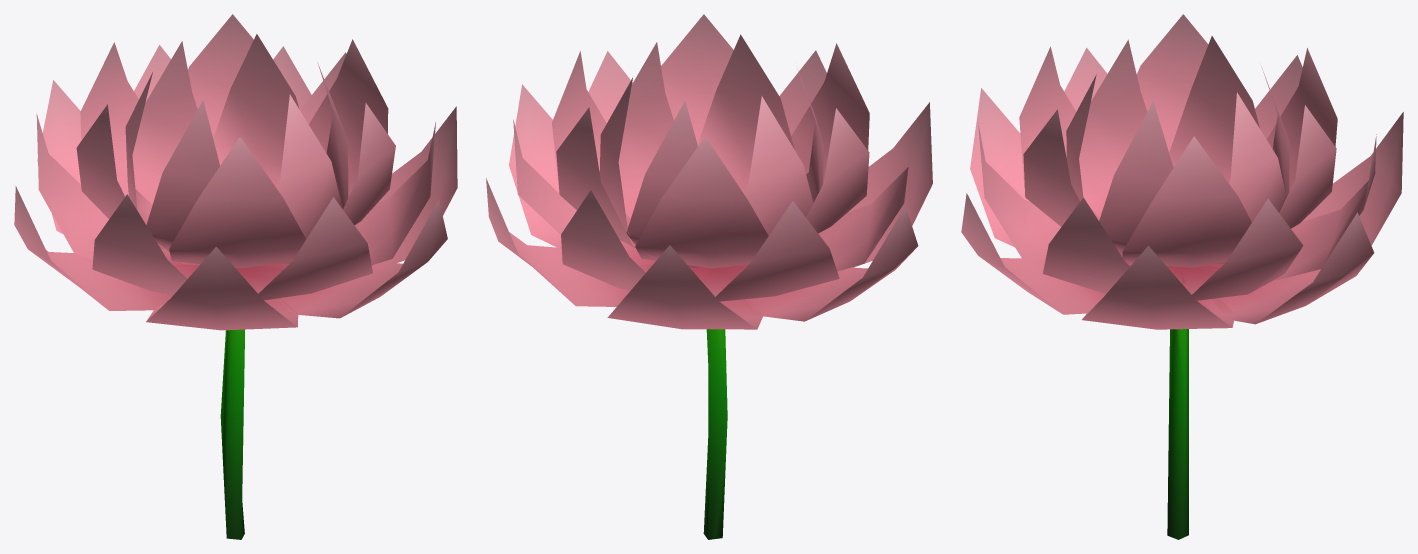
Rendered from flower (14)_LOD1.fbx.
3 views of the same model, side by side, from view 1: azimuth 30°, elevation 25°; view 2: azimuth 150°, elevation 25°; view 3: azimuth 270°, elevation 25° (orthographic).
Parts seen in each view (by area): view 1: 13_f3; view 2: 13_f3; view 3: 13_f3.
Part boxes in pixels (x1,y1,x2,y2): 13_f3: (14,14,457,539); 13_f3: (486,14,932,539); 13_f3: (961,14,1403,539).
Bounding box in the file's own units: 106 × 115 × 98.81.
